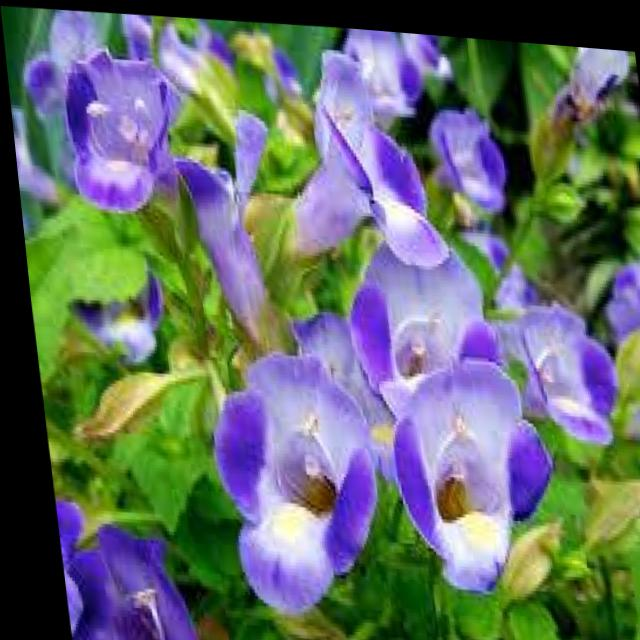Flower: (177, 314, 416, 615), (244, 45, 458, 294), (374, 341, 566, 589), (156, 91, 300, 362), (316, 219, 516, 409), (47, 33, 201, 229), (489, 271, 612, 445), (56, 515, 194, 640), (432, 95, 506, 216)
